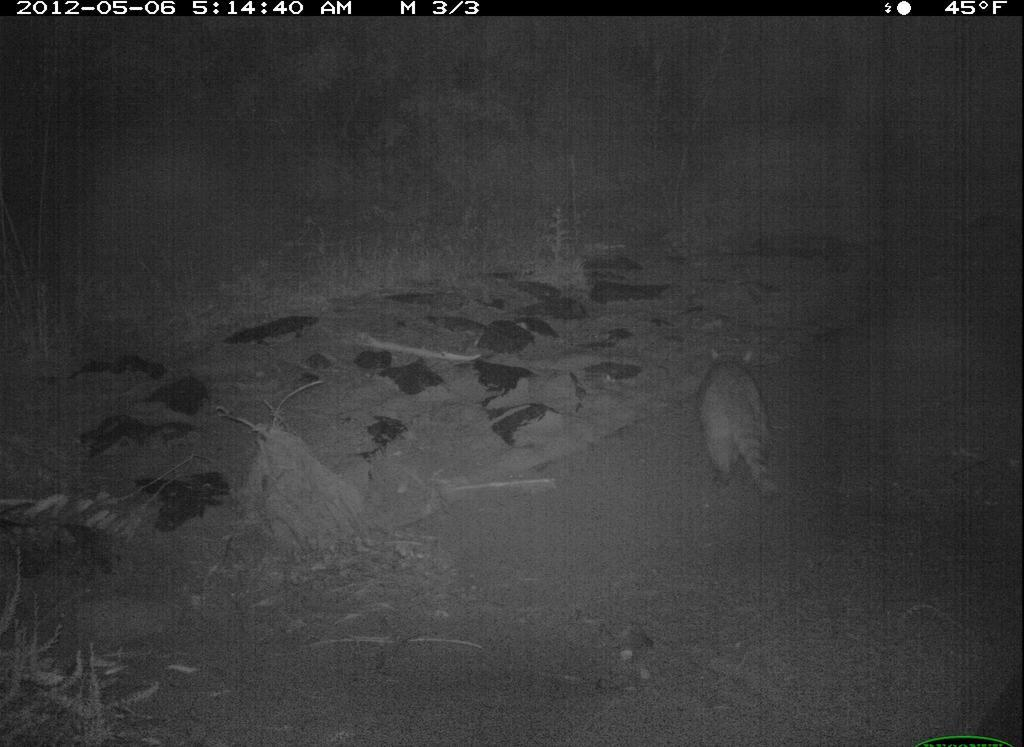raccoon: (679, 340, 811, 506)
